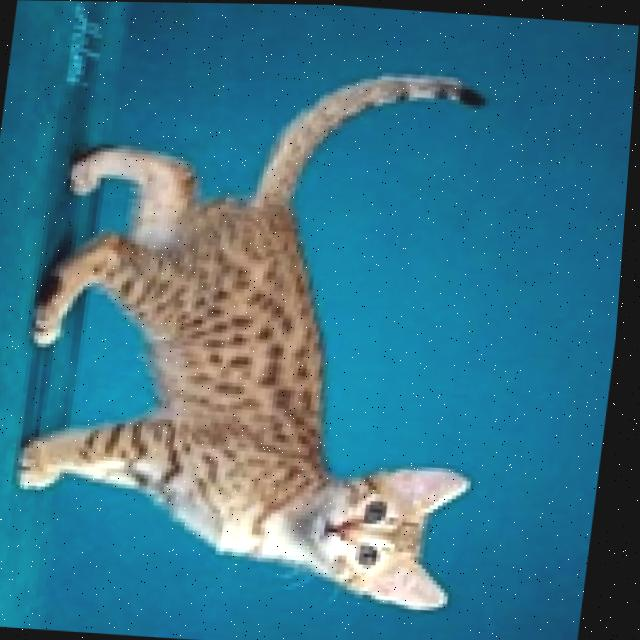Egyptian Mau: (1, 41, 528, 615)
